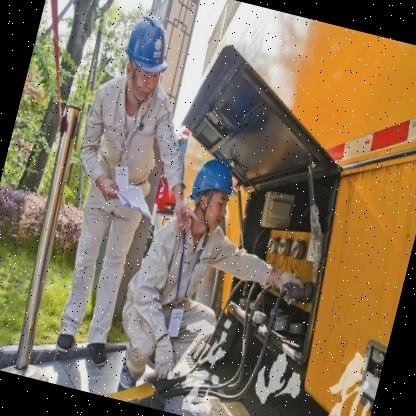capacete: (112, 8, 182, 107), (180, 148, 250, 238)
sem_colete_refletivo: (115, 204, 240, 350), (66, 73, 182, 210)
